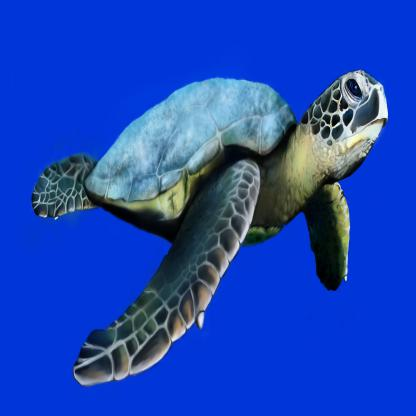turtle: (309, 60, 391, 188)
